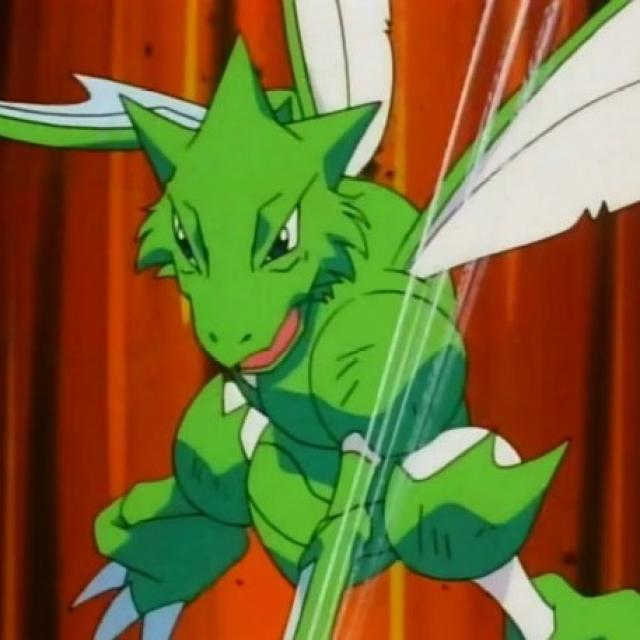Scyther: (105, 38, 570, 640)
